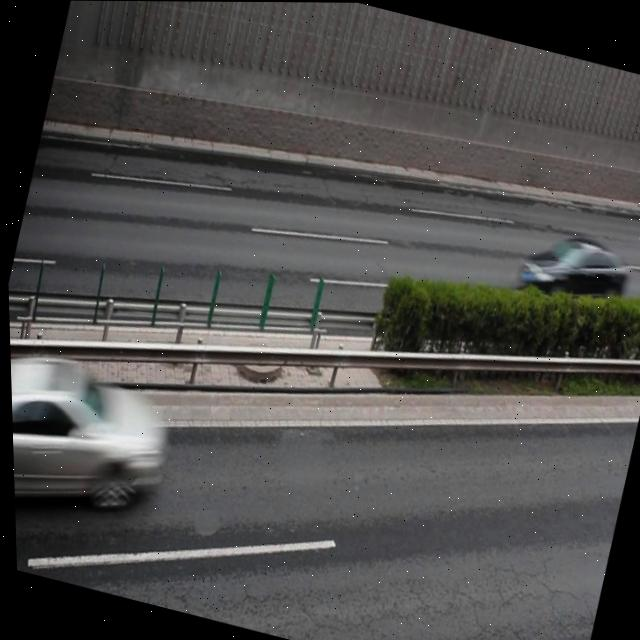car: (8, 339, 177, 539), (509, 220, 632, 326)
